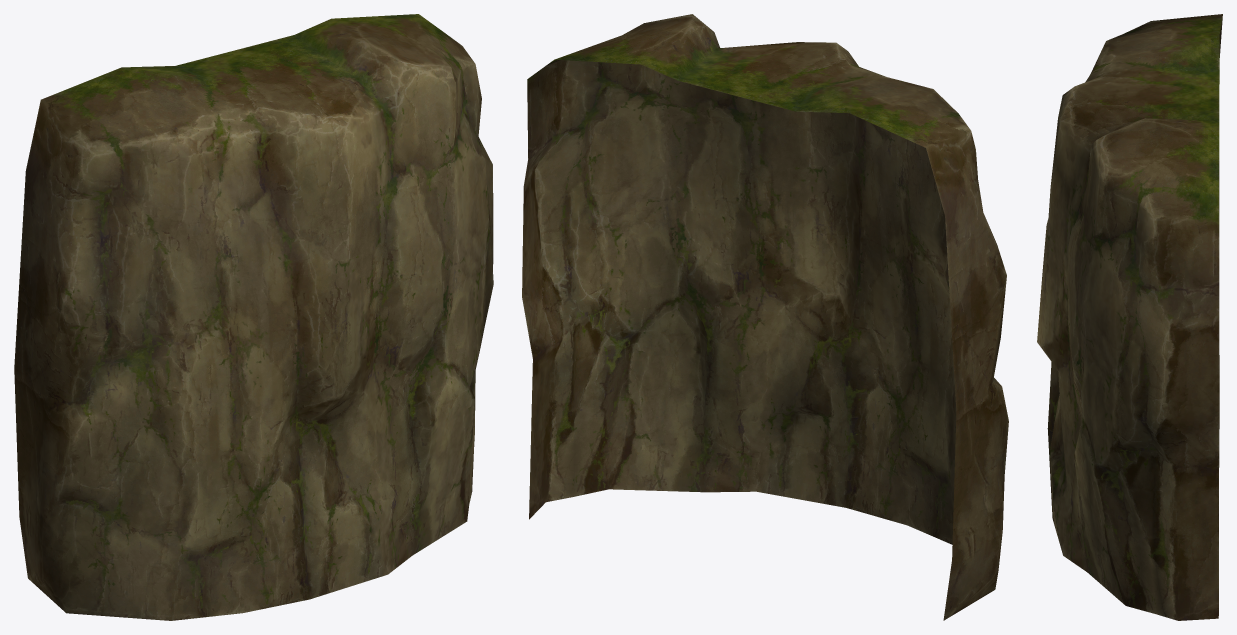
Rendered from Cliff1.fbx.
3 views of the same model, side by side, from view 1: azimuth 30°, elevation 25°; view 2: azimuth 150°, elevation 25°; view 3: azimuth 270°, elevation 25° (orthographic). The views are drawn at different scales.
Visible parts, largest first — view 1: SM_d_109_Cliff_01a; view 2: SM_d_109_Cliff_01a; view 3: SM_d_109_Cliff_01a.
Part boxes in pixels (x1,y1,x2,y2): SM_d_109_Cliff_01a: [14, 14, 493, 620]; SM_d_109_Cliff_01a: [522, 14, 1008, 620]; SM_d_109_Cliff_01a: [1037, 14, 1222, 620].
Size of the model in its own units: 1667 by 1711 by 645.
